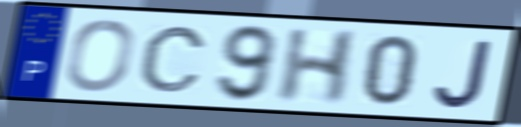0: (360, 33, 423, 108)
9: (213, 23, 278, 105)
C: (137, 23, 210, 95)
H: (273, 27, 363, 106)
J: (432, 37, 495, 111)
O: (62, 17, 138, 94)
